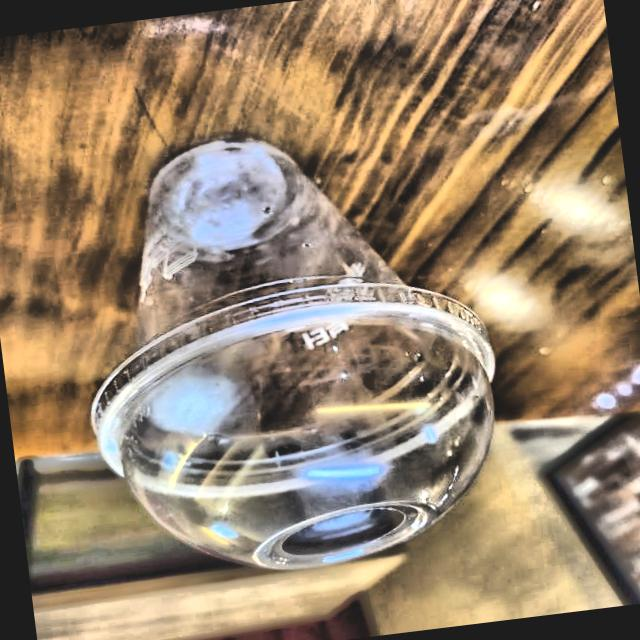plastic cup: (49, 94, 524, 616)
